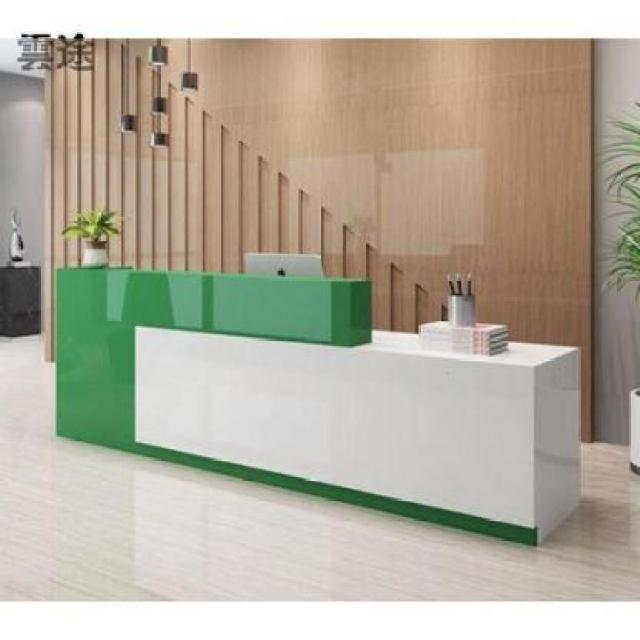frontdesk: (41, 254, 592, 555)
